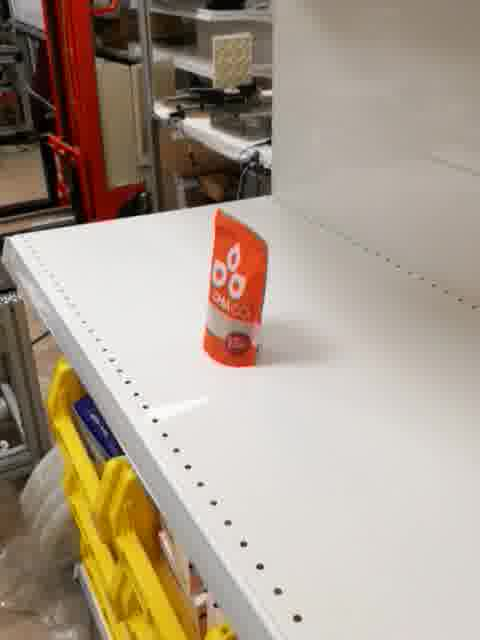whitechia: (203, 208, 270, 371)
